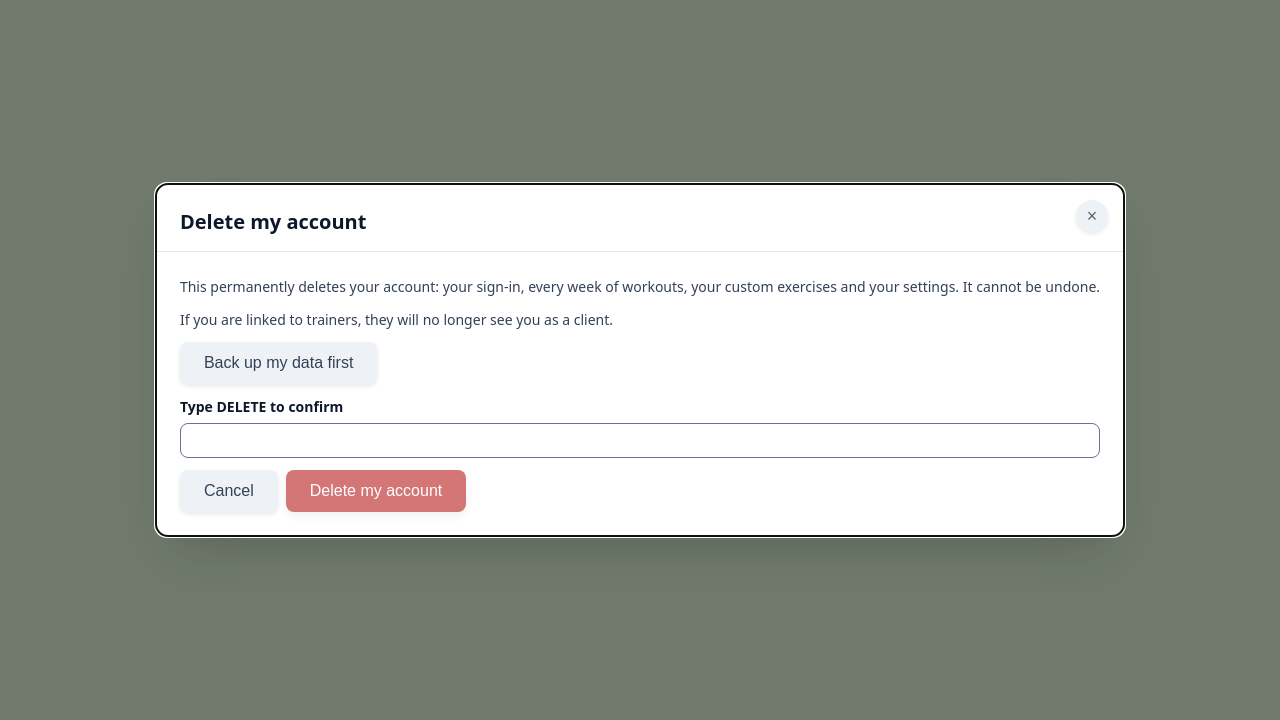
DeleteAccountModal › explains an admin refusal and a failure without signing out
The width and height of the screenshot is (1280, 720).
Type "DELETE" into the field labelled "Type DELETE to confirm" at (640, 440), box [180,423,1100,458]
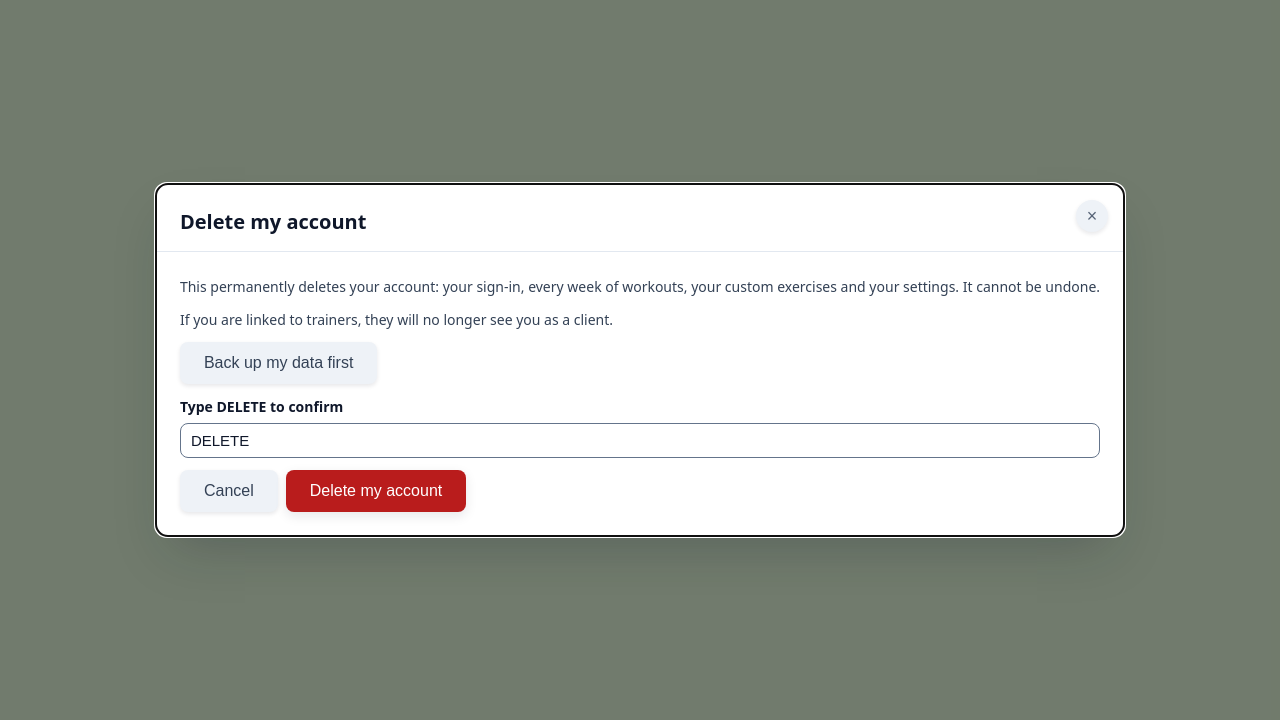
Click the button "Delete my account" at (376, 491), box [286,470,466,512]
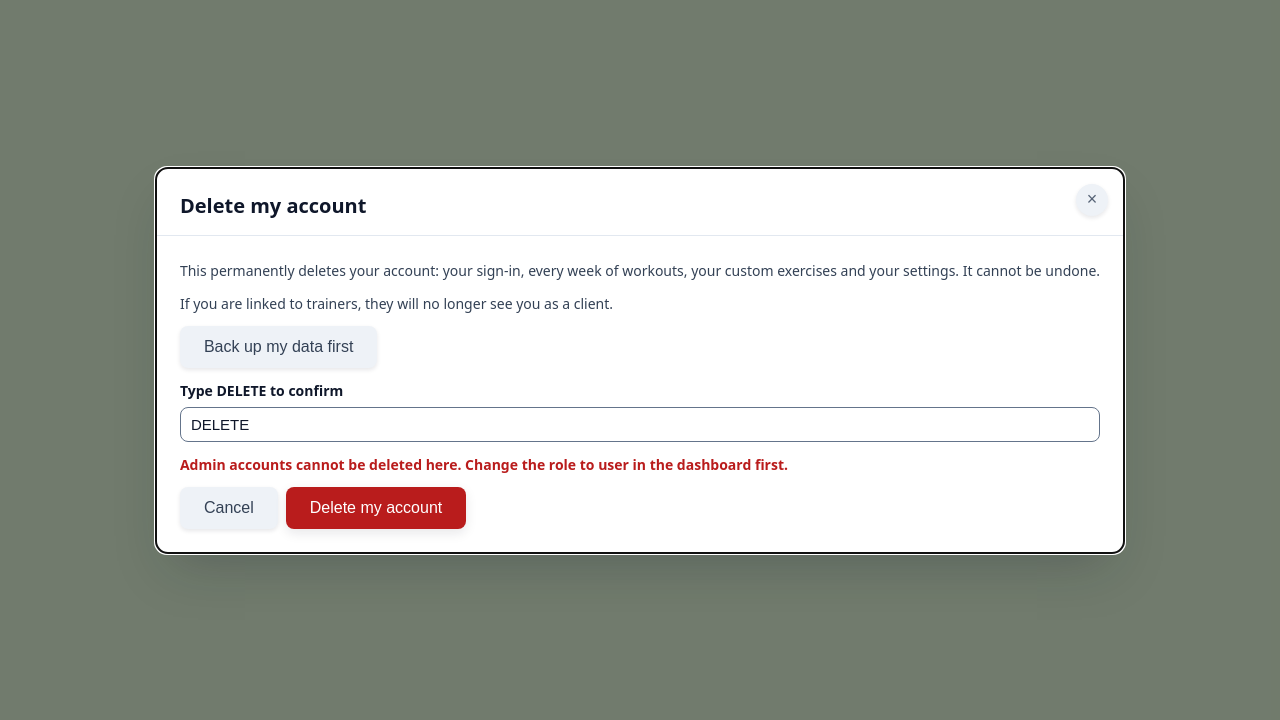
Check: the message shows "Admin accounts cannot be deleted here", box [180,454,788,474]
Click the button "Delete my account" at (376, 508), box [286,486,466,528]
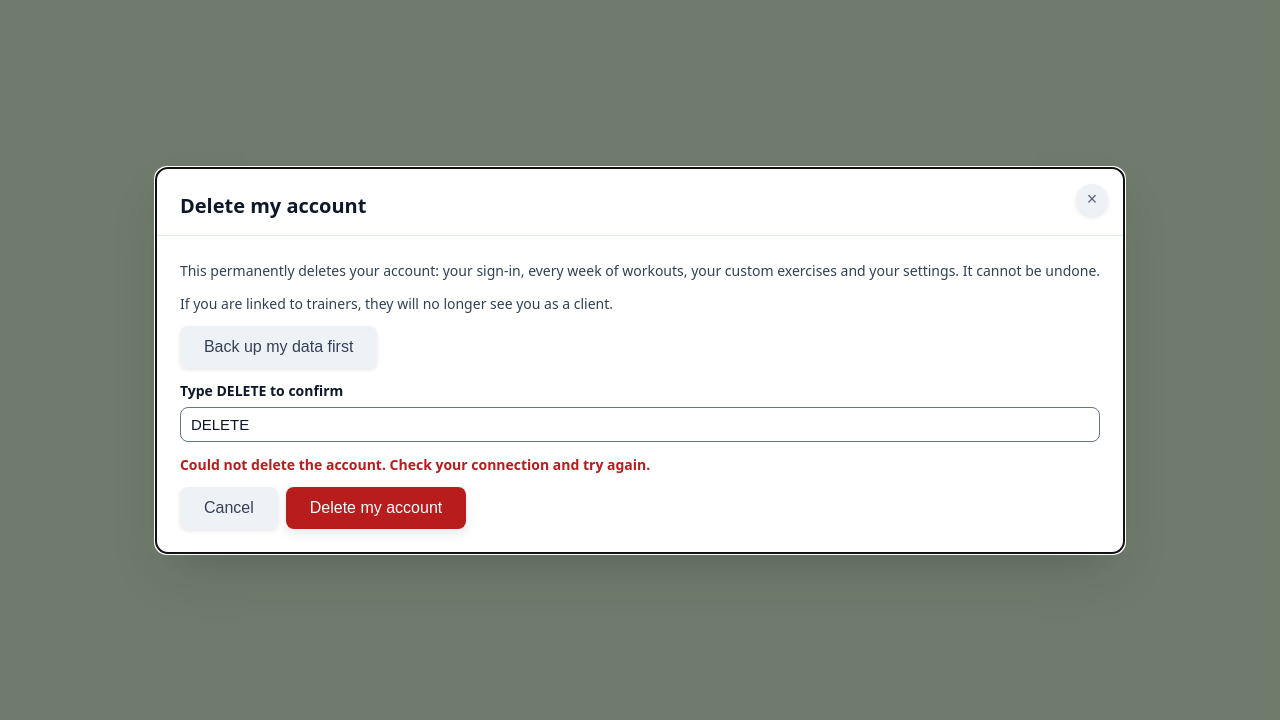
Check: the message shows "Could not delete the account", box [180,454,650,474]
